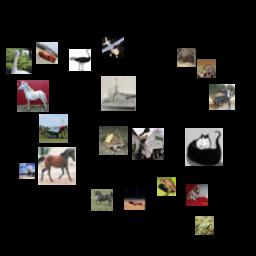airplane: (39, 114, 68, 143), (102, 37, 124, 59), (19, 163, 35, 179)
automobile: (36, 42, 58, 64)
bird: (6, 48, 32, 74), (69, 49, 91, 71)
cat: (185, 128, 223, 166), (197, 59, 216, 78)
deer: (124, 188, 146, 210), (177, 48, 196, 67)
dog: (186, 184, 208, 206)
frog: (99, 126, 128, 155), (195, 216, 214, 235), (157, 177, 176, 196)
ship: (101, 76, 136, 111)
truck: (132, 128, 164, 160), (209, 84, 235, 110)
